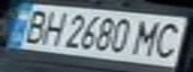0: (109, 16, 136, 54)
2: (63, 10, 87, 51)
6: (78, 12, 100, 52)
8: (97, 15, 118, 52)
B: (15, 7, 54, 45)
C: (148, 19, 190, 58)
H: (36, 8, 69, 47)
M: (130, 17, 166, 56)
